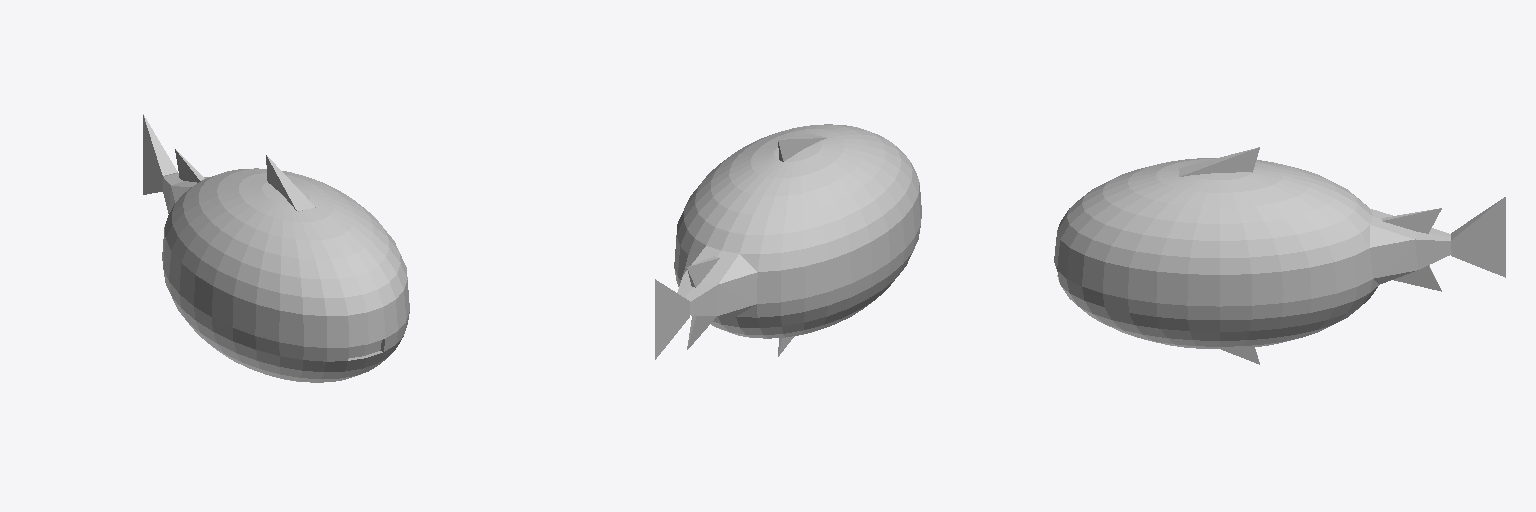
Rendered from player.obj.
3 views of the same model, side by side, from view 1: azimuth 30°, elevation 25°; view 2: azimuth 150°, elevation 25°; view 3: azimuth 270°, elevation 25° (orthographic).
Visible parts, largest first — view 1: 立方体; view 2: 立方体; view 3: 立方体.
Boxes of the visible parts, x1=… form: 立方体: x1=143, y1=114, x2=409, y2=382; 立方体: x1=655, y1=124, x2=921, y2=359; 立方体: x1=1054, y1=147, x2=1505, y2=364.
Bounding box in the file's own units: 3.04 × 3.43 × 6.45.